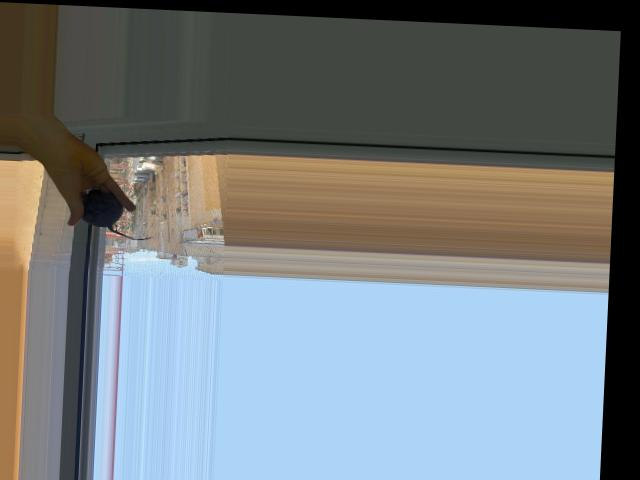beet: (82, 188, 156, 241)
